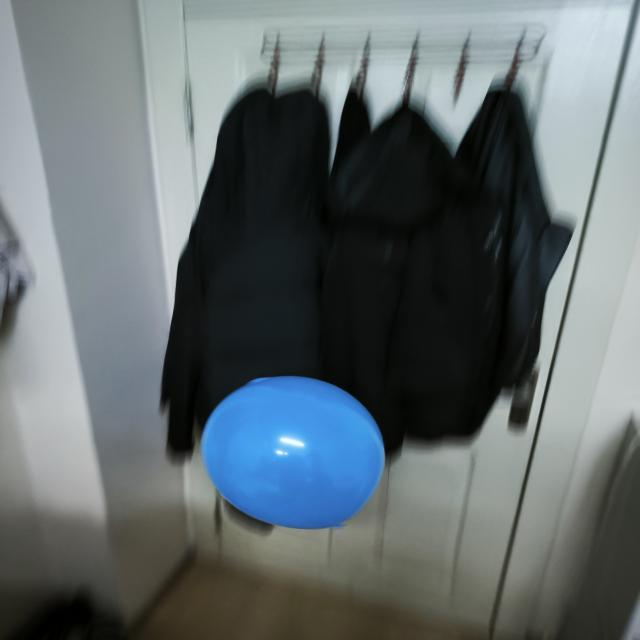balloon: (201, 376, 385, 529)
